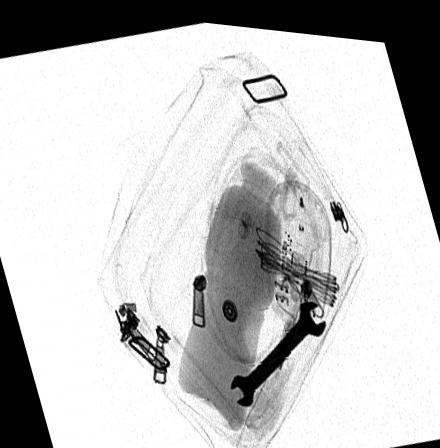Wrench: (227, 292, 326, 402)
